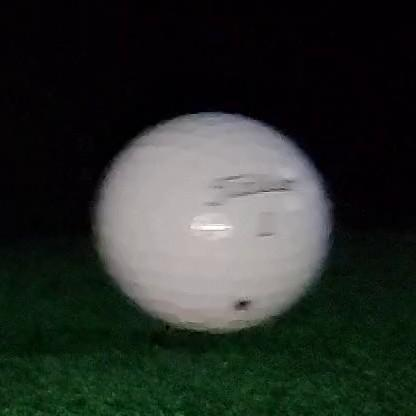golfball: (96, 113, 330, 332)
